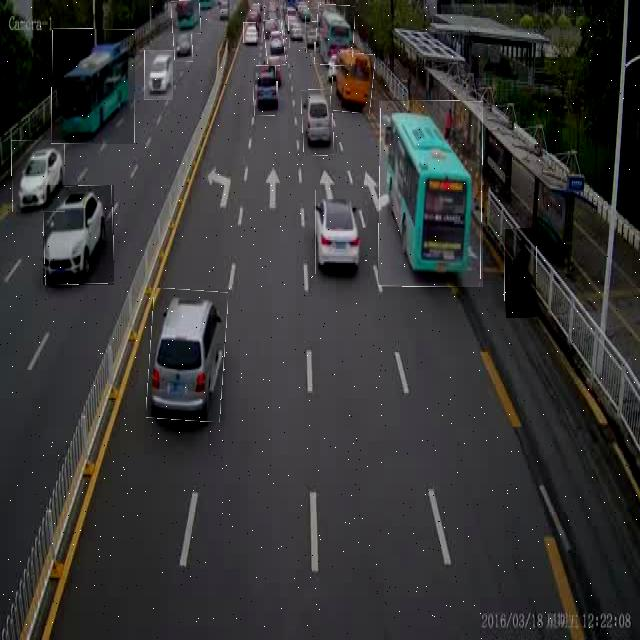Bus: (379, 101, 483, 287), (52, 29, 135, 144), (331, 52, 374, 113), (315, 5, 354, 66), (171, 0, 200, 34)
Car: (148, 289, 226, 421), (43, 185, 114, 285), (315, 190, 362, 274), (12, 140, 65, 212), (302, 90, 334, 156), (144, 50, 173, 100), (254, 66, 278, 116), (265, 20, 285, 66), (173, 29, 193, 62), (289, 16, 306, 48), (306, 22, 320, 53), (243, 22, 256, 43)
Motorcycle: (505, 228, 537, 318)
